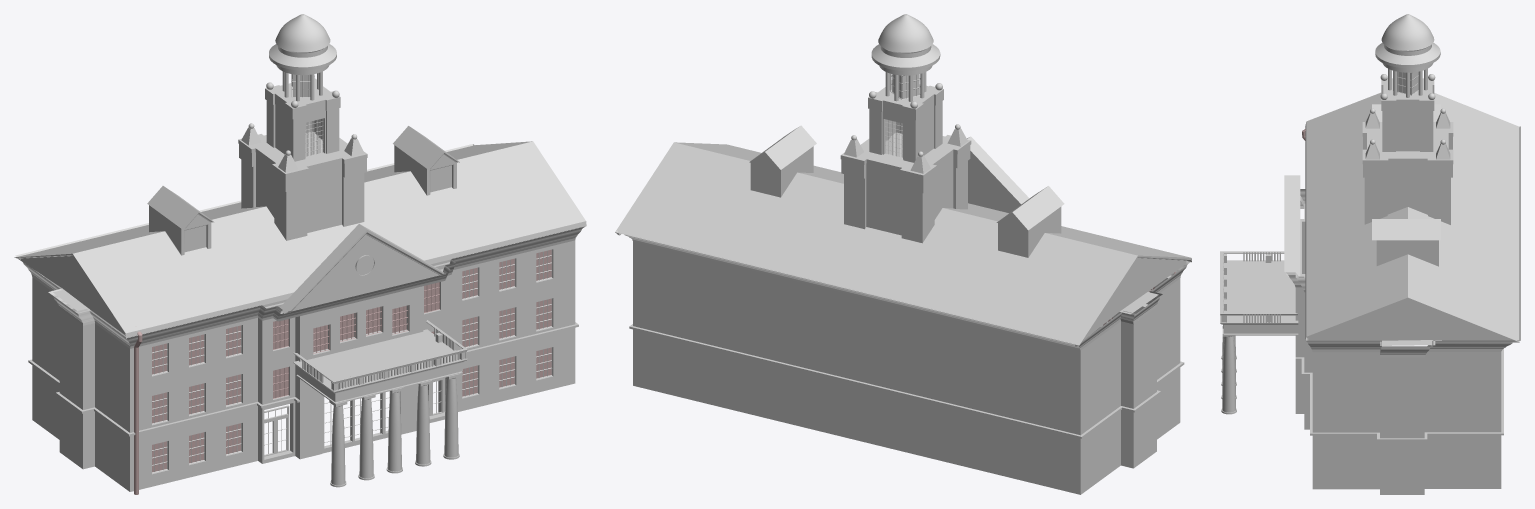
Rendered from old_museum_building.glb.
3 views of the same model, side by side, from view 1: azimuth 30°, elevation 25°; view 2: azimuth 150°, elevation 25°; view 3: azimuth 270°, elevation 25° (orthographic). The views are drawn at different scales.
Visible parts, largest first — view 1: Building; view 2: Building; view 3: Building.
Part boxes in pixels (left/top/right/bottom): Building: left=14, top=14, right=586, bottom=494; Building: left=615, top=14, right=1191, bottom=494; Building: left=1220, top=14, right=1520, bottom=494.
Size of the model in its own units: 32.19 by 24.78 by 18.11.
